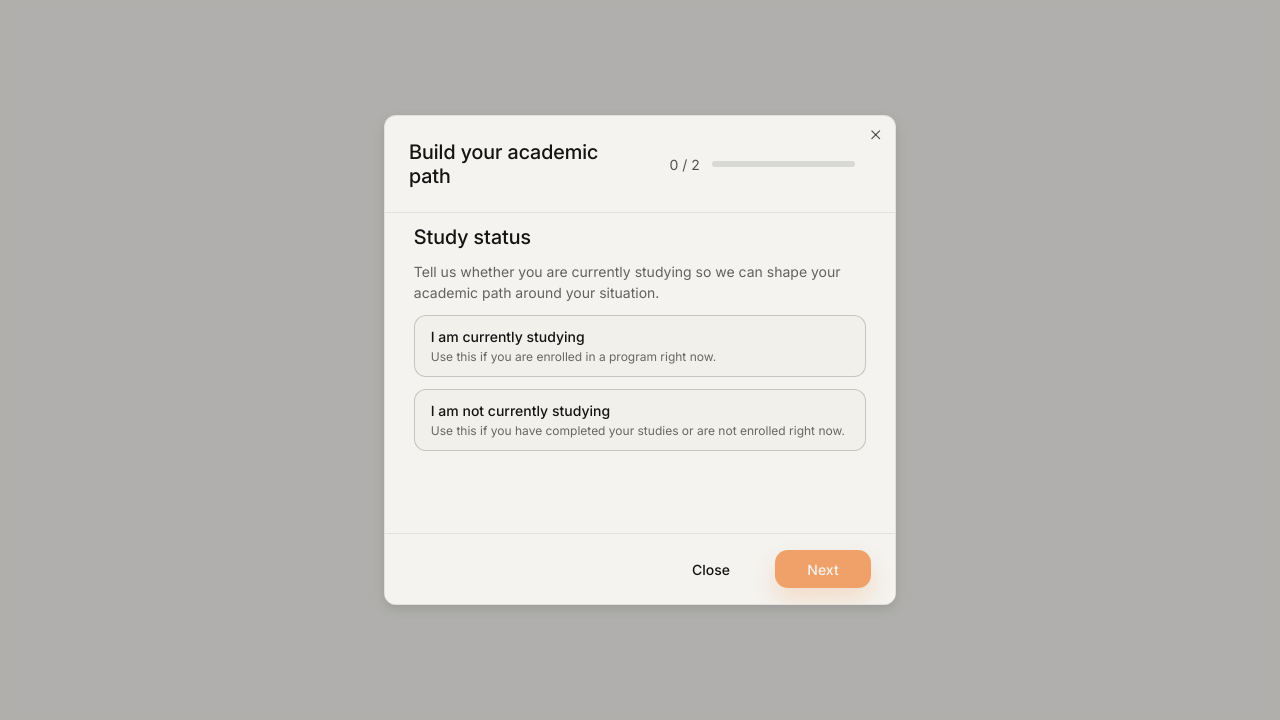
Scenario: SchoolPathModal › enables Next after choosing the study status
Expected: the button with class "next-button" is disabled, [775,550,871,588]
Click the button with class "option" that starts with "I am currently studying" at (508, 337), box [414,315,866,377]
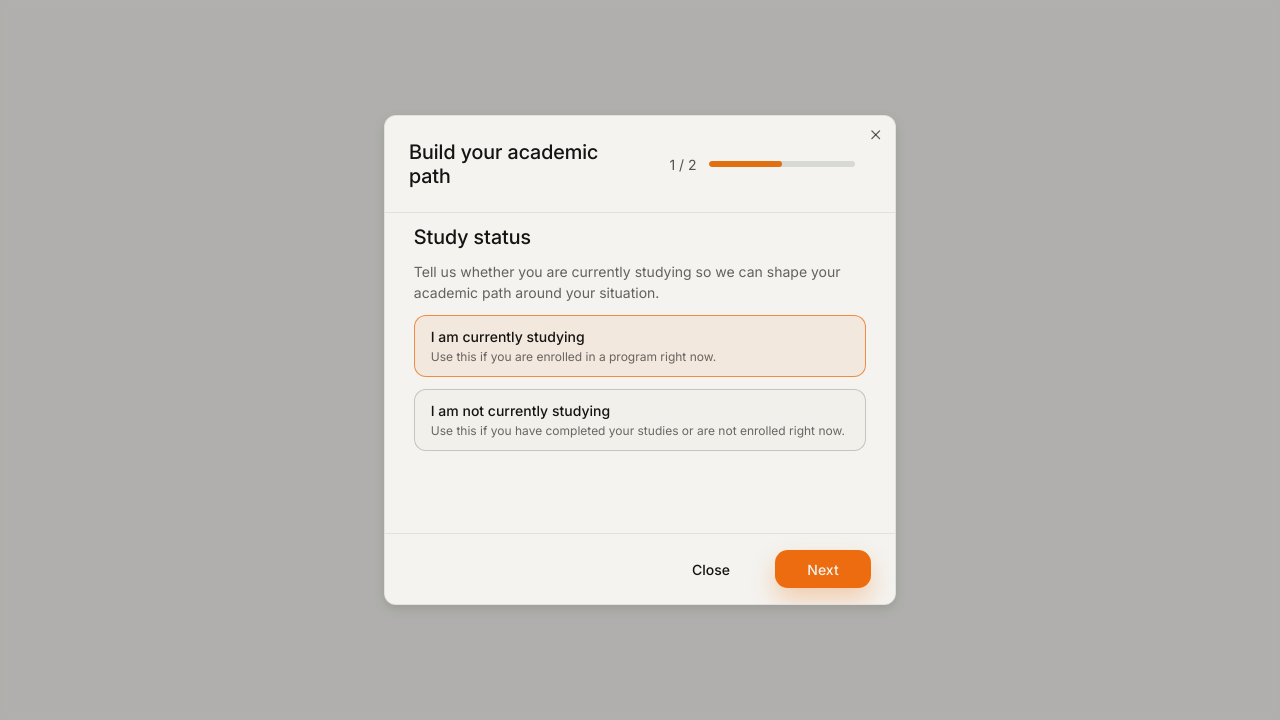
Expected: the button with class "next-button" is enabled, [775,550,871,588]
